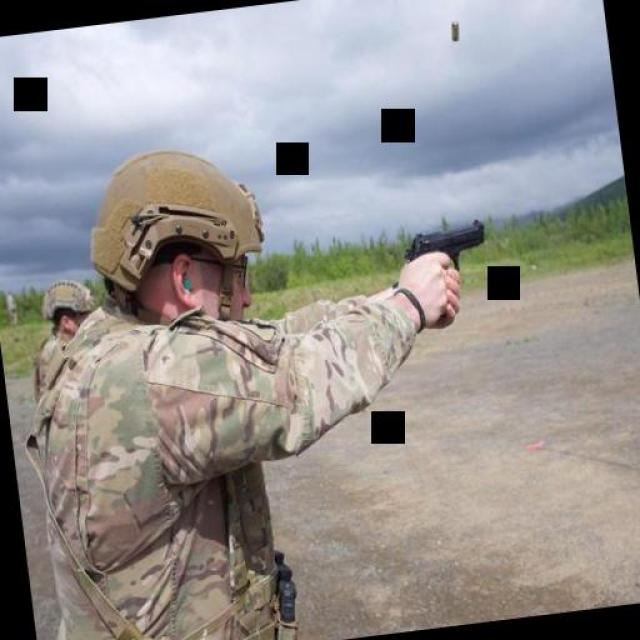gun: (396, 219, 496, 329)
